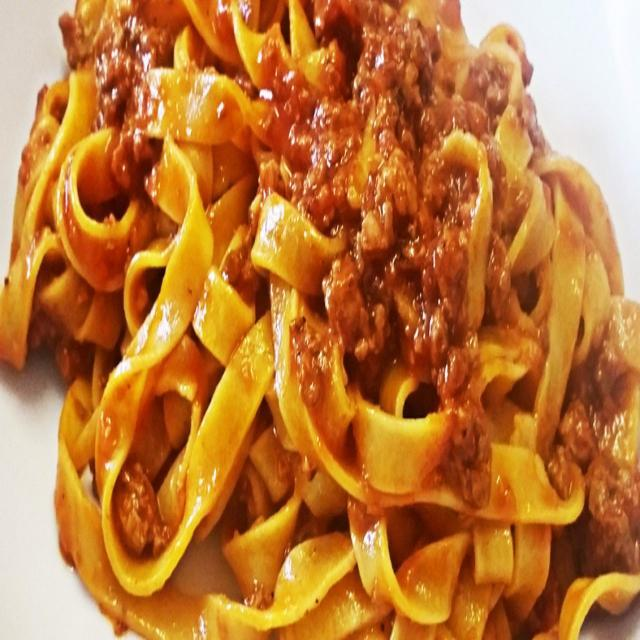Pasta al ragu: (35, 10, 632, 590)
